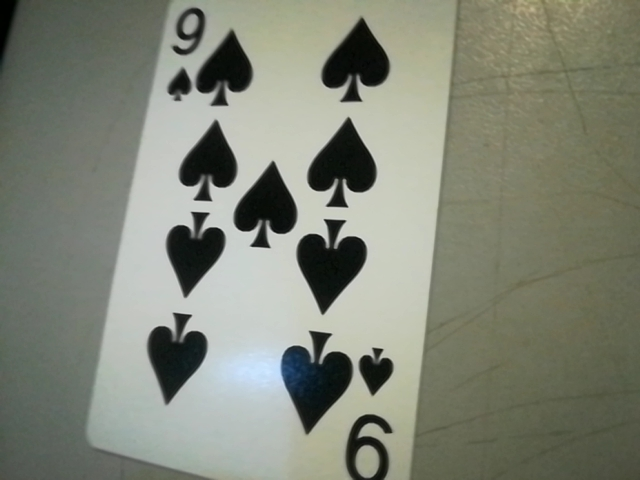ht 9: (337, 332, 413, 480), (156, 1, 220, 105)
